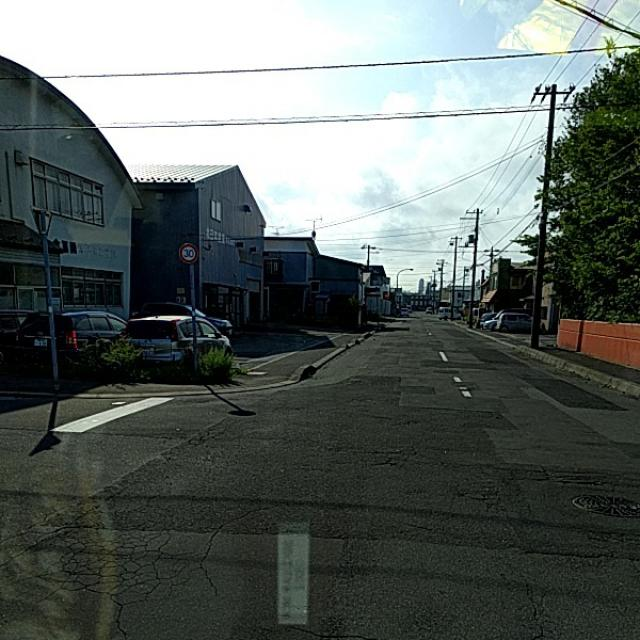pothole: (26, 486, 200, 606)
